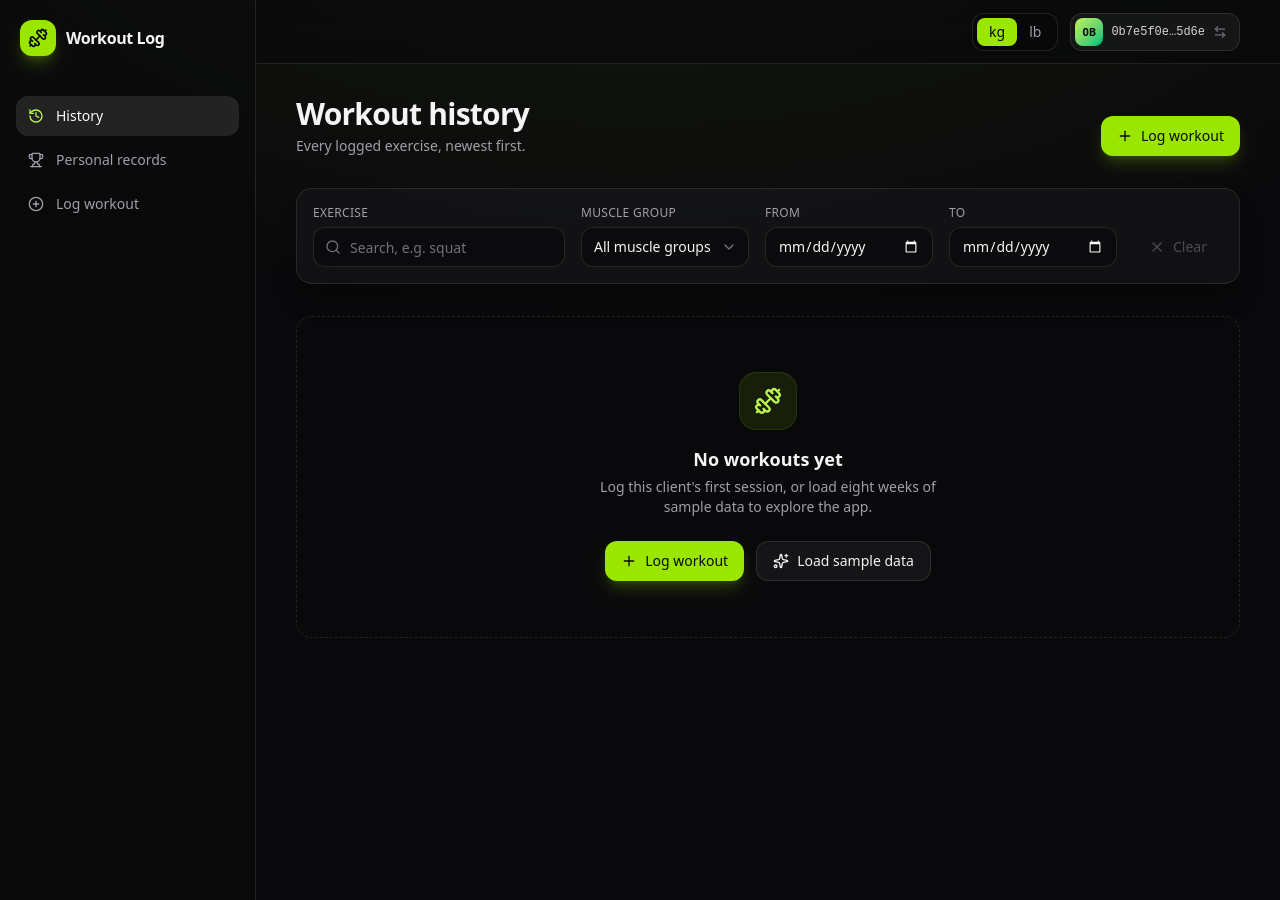
Test: LoadSampleDataButton › loads sample data into an empty account and shows it
Click the button "Load sample data": (843, 561) [756,541,931,581]
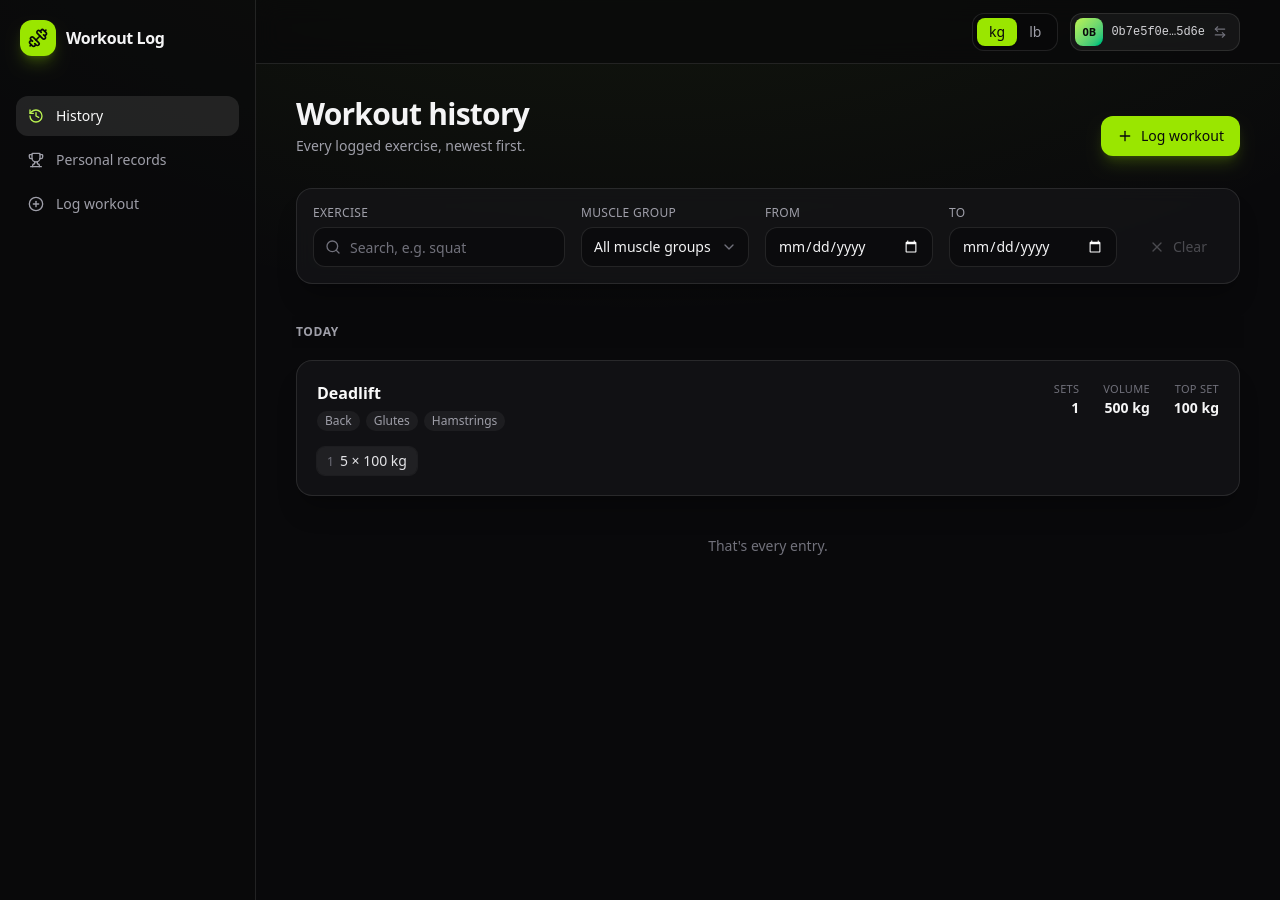
expect the heading "Deadlift" is shown: met, box [317,382,381,404]
